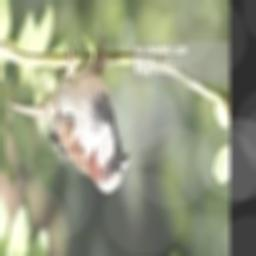Sparrow: (8, 38, 129, 193)
